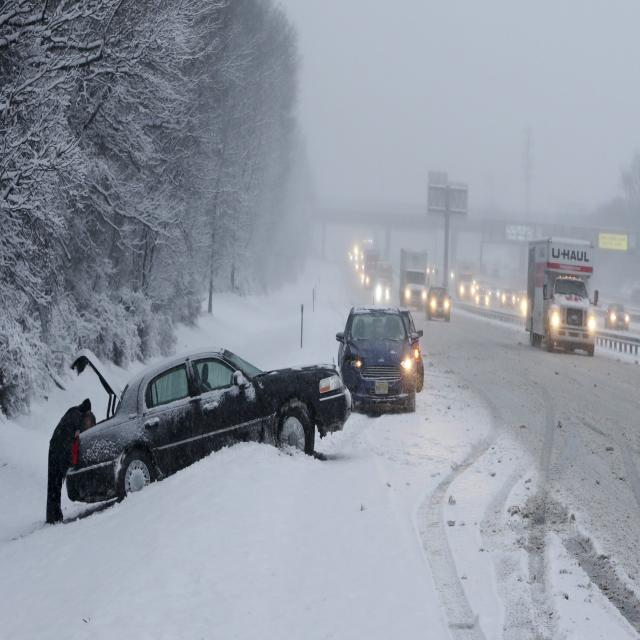Accident: (43, 321, 352, 515)
